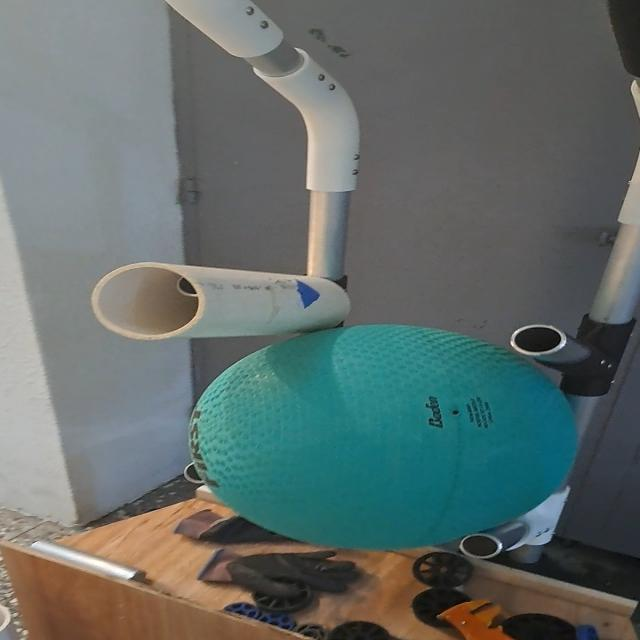ALGAE: (187, 324, 585, 554)
CORAL: (88, 260, 353, 344)
